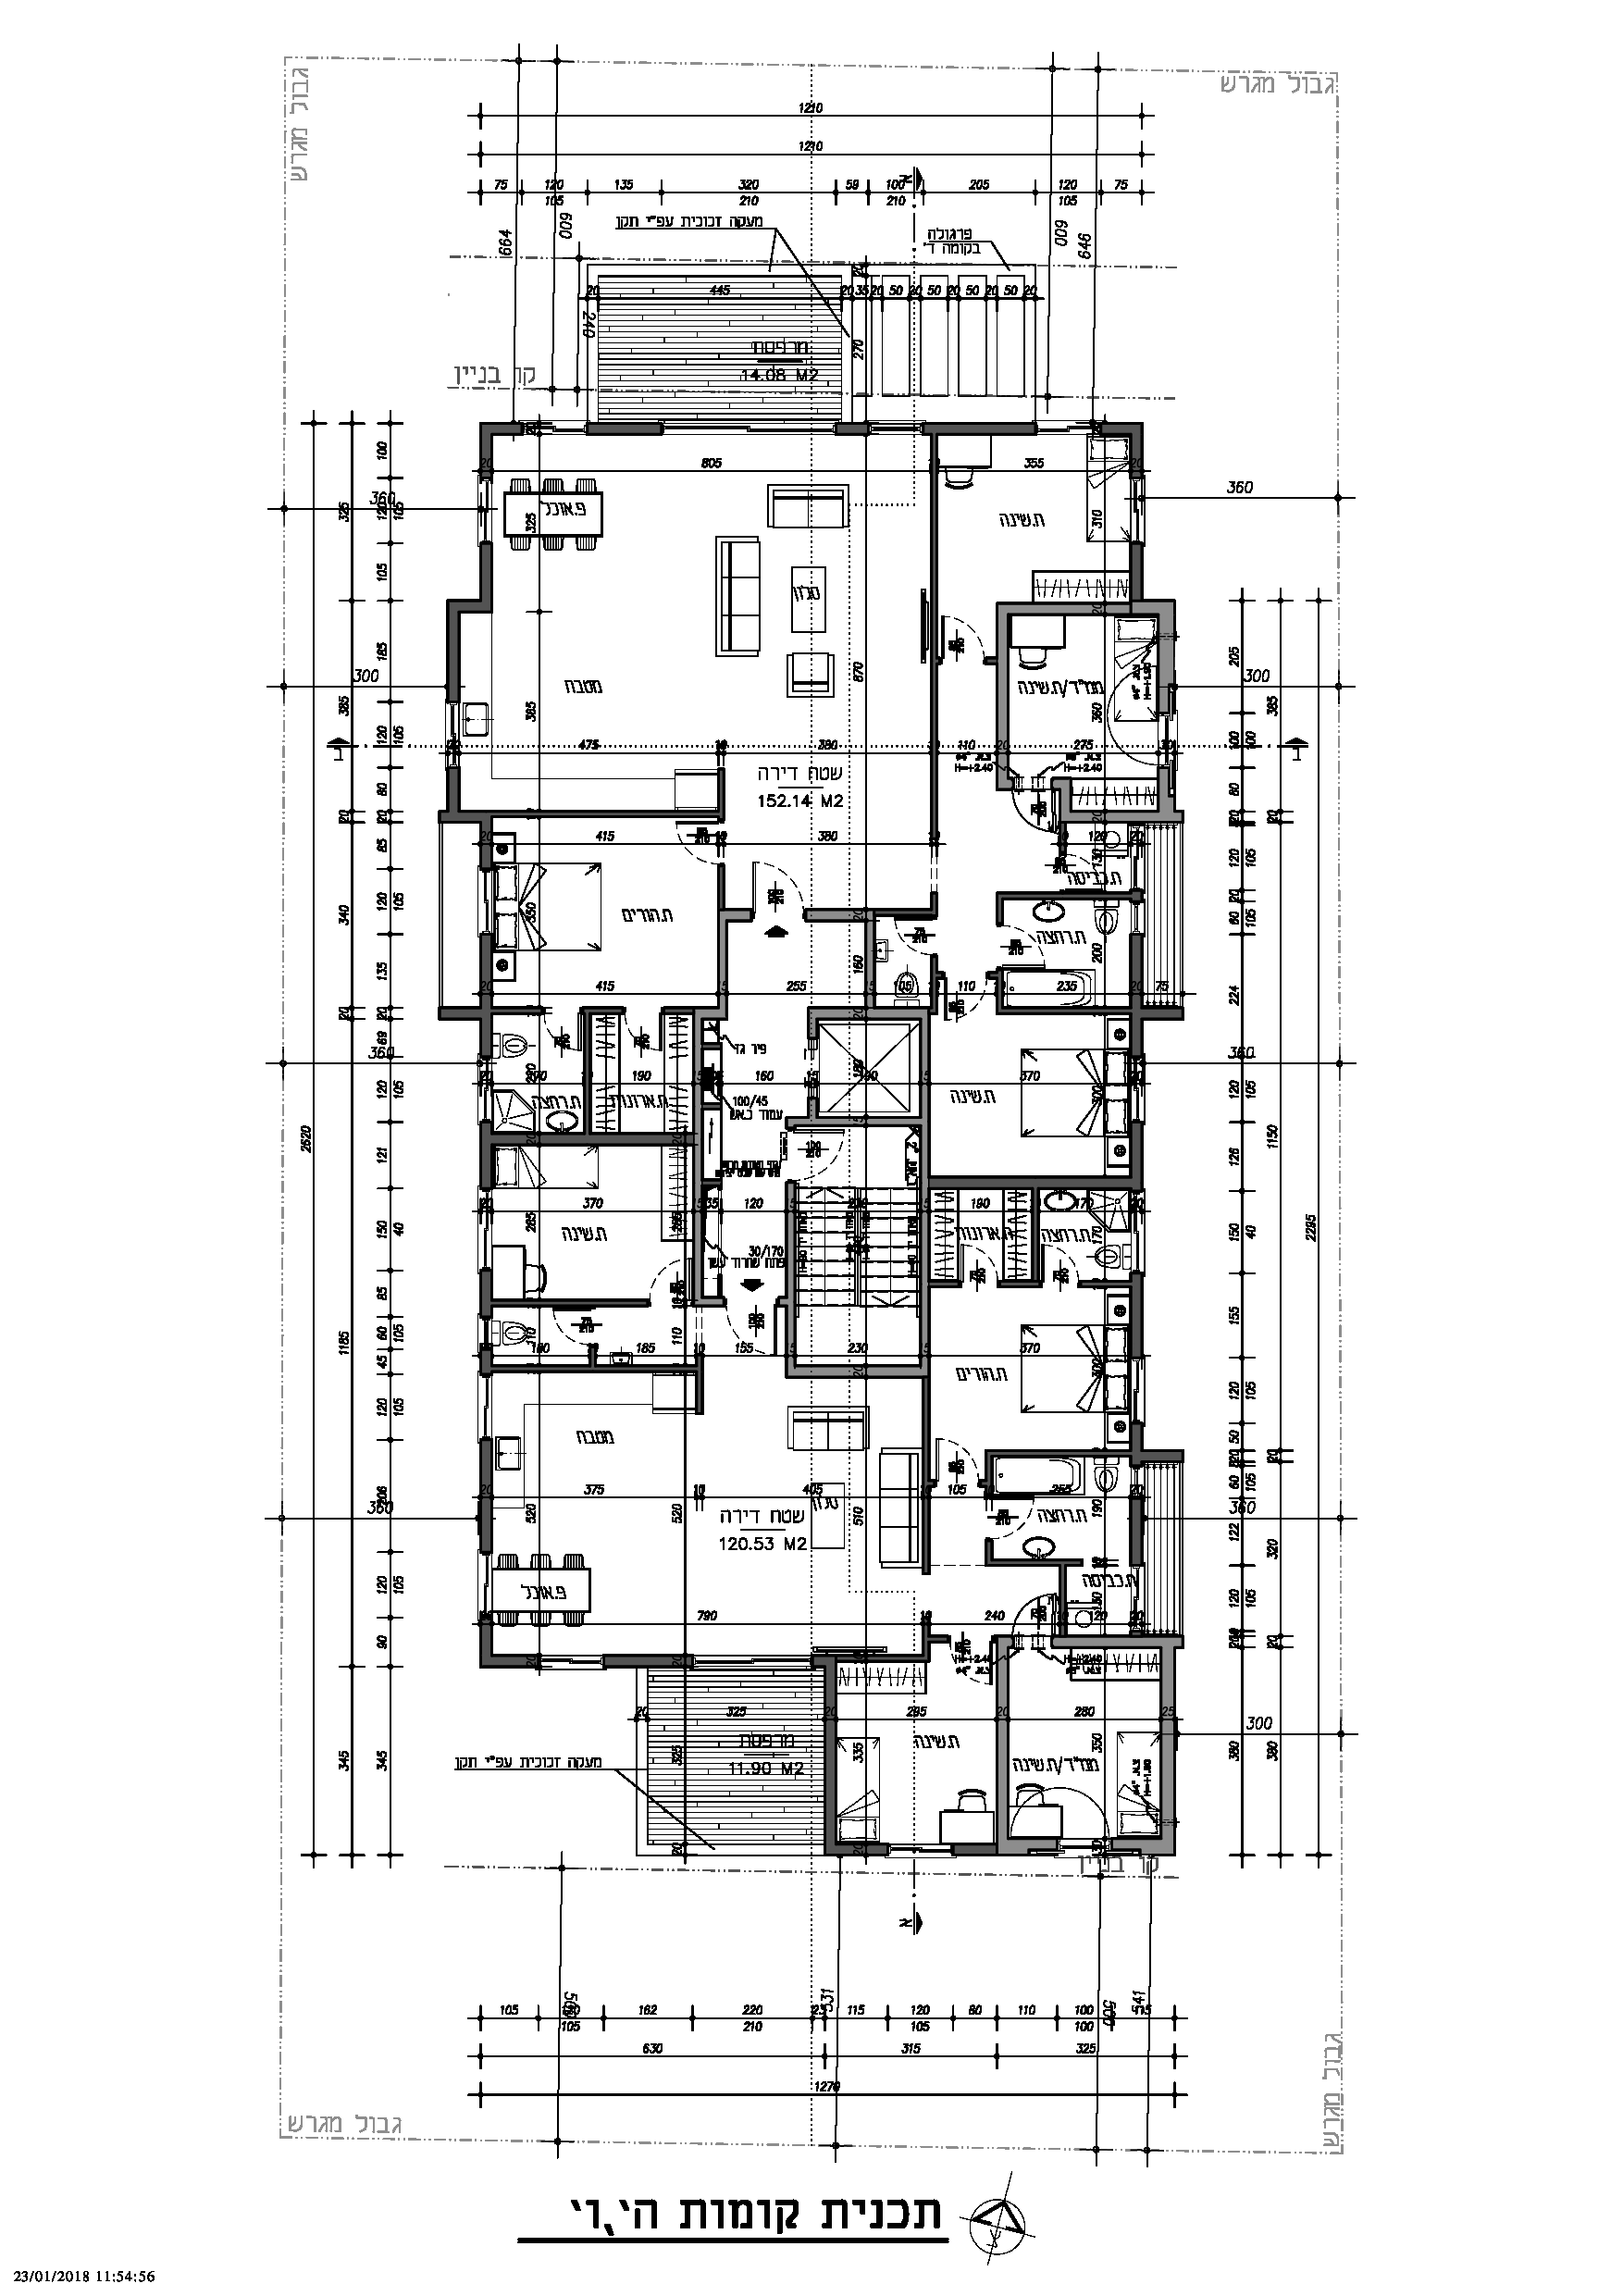door: (745, 859, 817, 928), (636, 1254, 706, 1318), (548, 1296, 618, 1360), (715, 1300, 787, 1361), (1024, 1237, 1091, 1300), (924, 1430, 991, 1493), (776, 1128, 850, 1184), (934, 610, 996, 676), (941, 1240, 1010, 1296), (667, 819, 738, 873), (941, 1632, 996, 1690), (617, 1003, 669, 1063), (934, 973, 994, 1026), (980, 1488, 1035, 1544), (1012, 1590, 1066, 1646), (887, 912, 949, 959), (989, 922, 1050, 970), (537, 1000, 585, 1056)
room: (488, 446, 927, 838), (504, 1397, 912, 1632), (492, 1147, 689, 1298), (943, 1293, 1117, 1446), (938, 1021, 1115, 1168), (945, 457, 1129, 592), (841, 1671, 987, 1841), (1021, 620, 1151, 778), (1022, 1667, 1154, 1820)
wall: (430, 559, 502, 682), (1154, 1637, 1184, 1860), (813, 1658, 843, 1859), (778, 1356, 941, 1390), (1122, 936, 1172, 1045), (467, 806, 662, 827), (1151, 601, 1177, 701), (474, 420, 516, 464), (469, 987, 509, 1031)
window: (648, 411, 845, 444), (685, 1648, 815, 1674), (465, 467, 502, 553), (504, 413, 604, 443), (471, 1182, 502, 1275), (472, 1368, 504, 1462), (527, 1646, 615, 1679), (1124, 1186, 1154, 1279), (1121, 1344, 1151, 1437), (1124, 1553, 1154, 1646), (471, 1541, 501, 1634), (469, 1051, 501, 1133), (1121, 1049, 1149, 1137), (1021, 416, 1112, 443), (472, 861, 501, 945), (1151, 706, 1182, 780), (439, 694, 464, 778), (1122, 473, 1149, 548), (882, 1839, 961, 1864), (1042, 1836, 1121, 1860), (862, 416, 929, 441)
